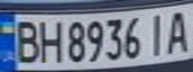3: (103, 16, 127, 62)
6: (121, 12, 148, 60)
8: (63, 17, 87, 63)
9: (84, 16, 106, 63)
A: (163, 7, 190, 55)
B: (9, 17, 42, 64)
H: (36, 17, 63, 63)
I: (142, 9, 172, 56)
